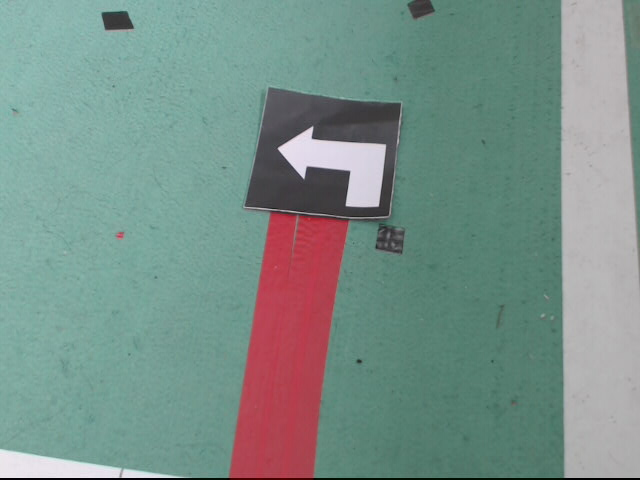left: (244, 85, 405, 220)
